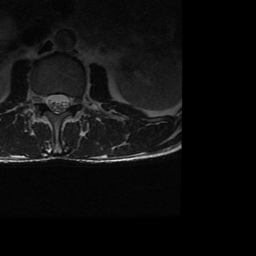CCS_normal: (52, 89, 61, 119)
LFS_normal: (69, 91, 77, 111)
LLS_normal: (61, 89, 69, 113)
RFS_normal: (36, 90, 45, 111)
RLS_normal: (45, 90, 53, 113)
